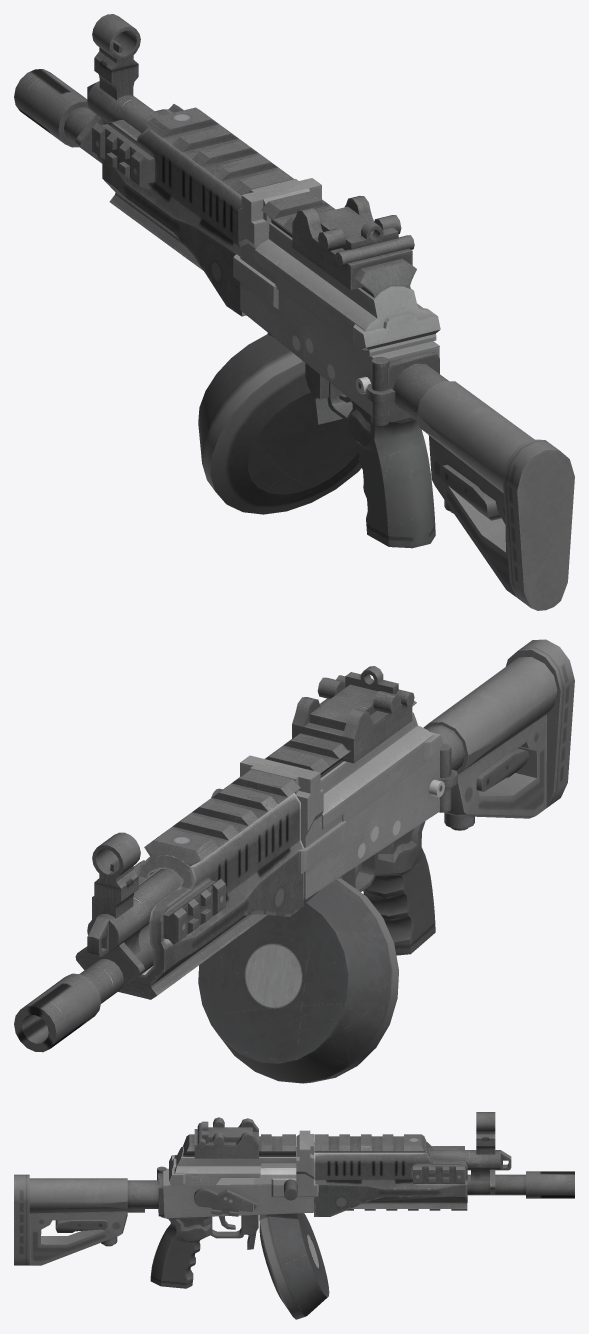
Rendered from IG_Gun_RPK.fbx.
The picture shows the model from 3 angles, top to bottom: view 1: azimuth 30°, elevation 25°; view 2: azimuth 150°, elevation 25°; view 3: azimuth 270°, elevation 25°; orthographic projection. The views are drawn at different scales.
Parts seen in each view (by area): view 1: WPN_RPK16, HideIf_Stock, HideIf_Muzzle; view 2: WPN_RPK16, HideIf_Stock, HideIf_Muzzle; view 3: WPN_RPK16, HideIf_Stock, HideIf_Muzzle.
Part boxes in pixels (x1,y1,x2,y2): WPN_RPK16: [64, 14, 440, 548]; HideIf_Stock: [366, 357, 574, 610]; HideIf_Muzzle: [14, 69, 90, 147]; WPN_RPK16: [75, 666, 444, 1083]; HideIf_Stock: [423, 639, 574, 830]; HideIf_Muzzle: [14, 973, 101, 1052]; WPN_RPK16: [150, 1112, 525, 1319]; HideIf_Stock: [14, 1166, 166, 1265]; HideIf_Muzzle: [526, 1171, 574, 1198].
Size of the model in its own units: 0.2584 by 0.4867 by 1.23.
